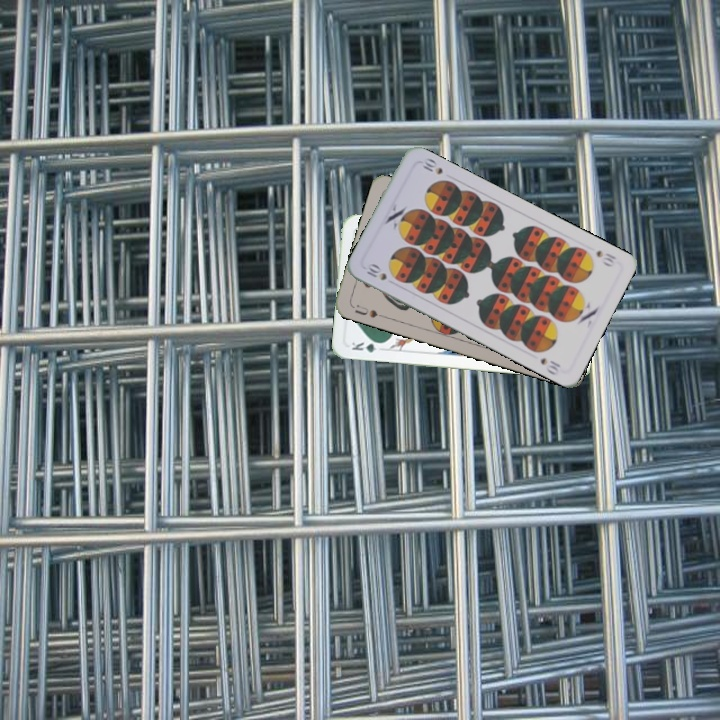GK: (347, 337, 387, 355)
S10: (592, 246, 619, 269), (362, 261, 390, 283)
SU: (348, 301, 388, 320)
